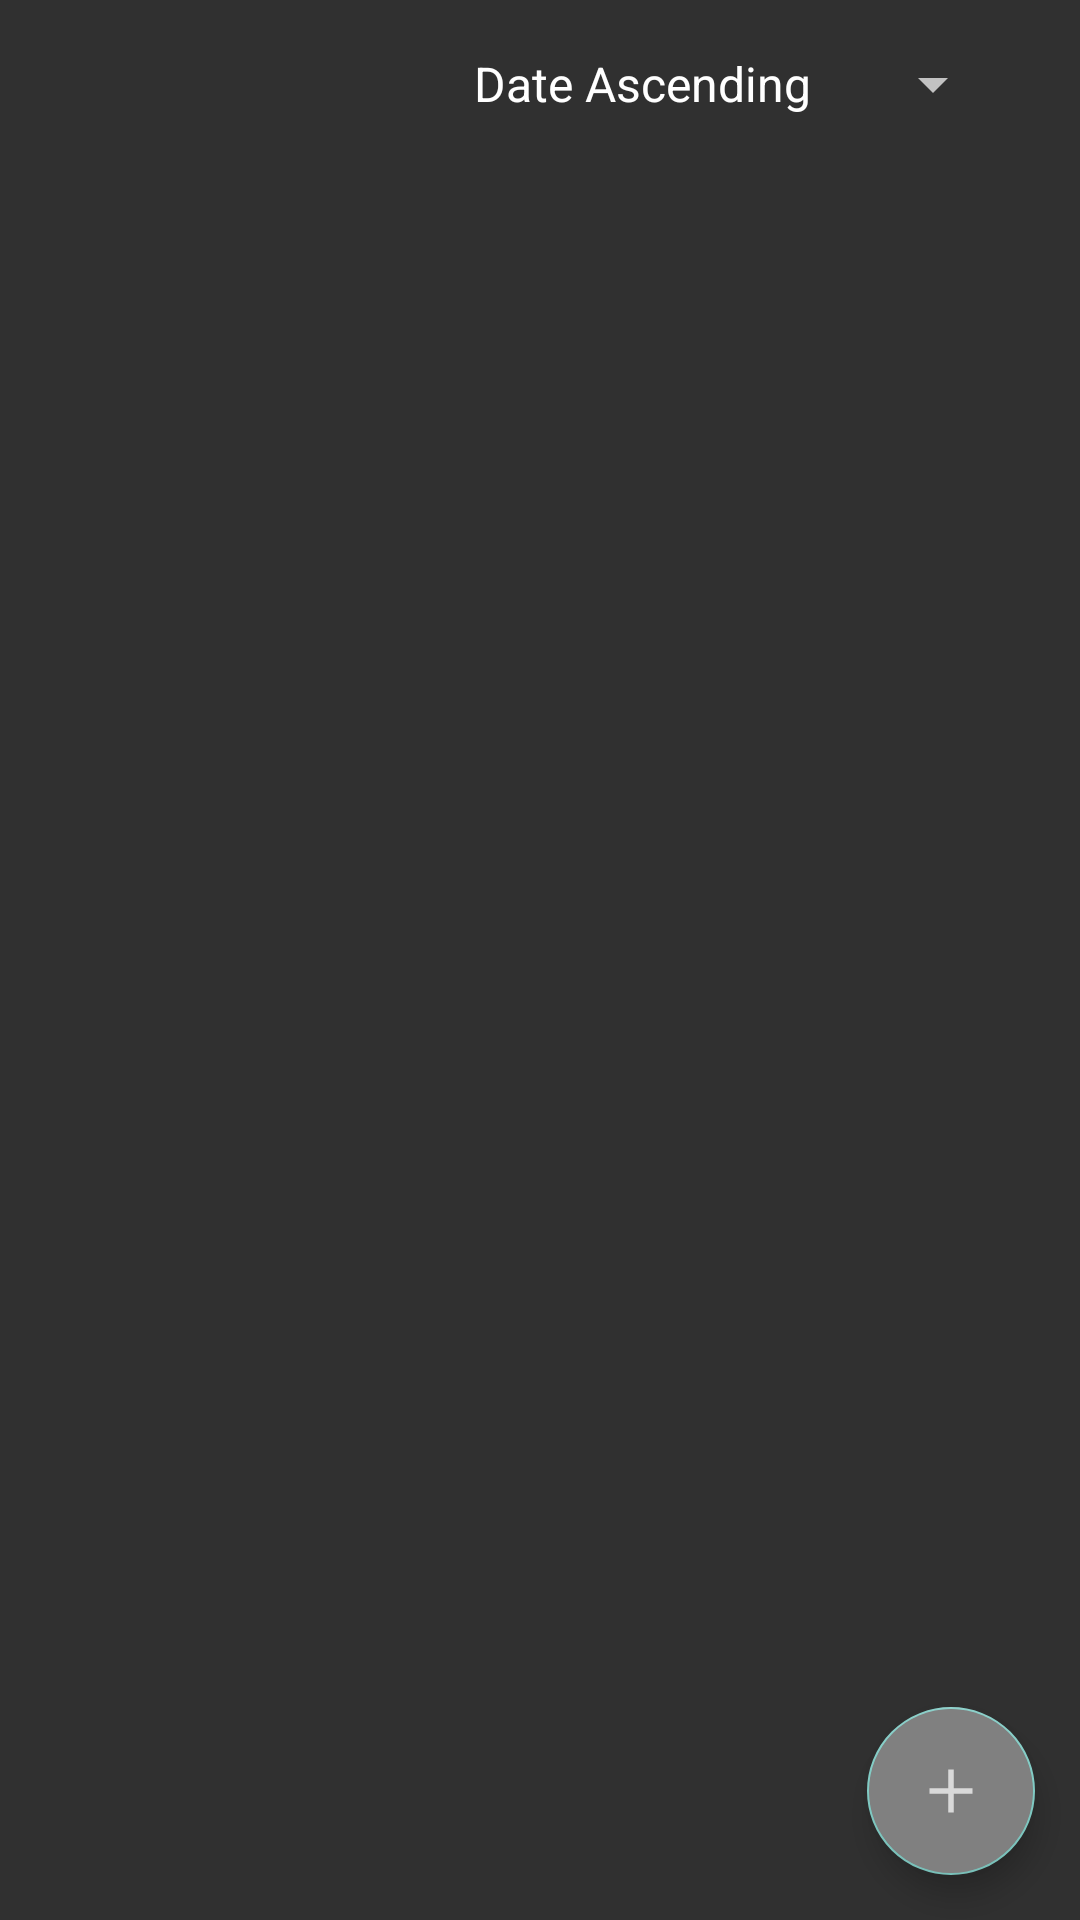

Icons on this 1080 × 1920 Android screen, each with its box as (x1, y1, x2, y2):
Add Ticket: (867, 1707, 1035, 1875)
